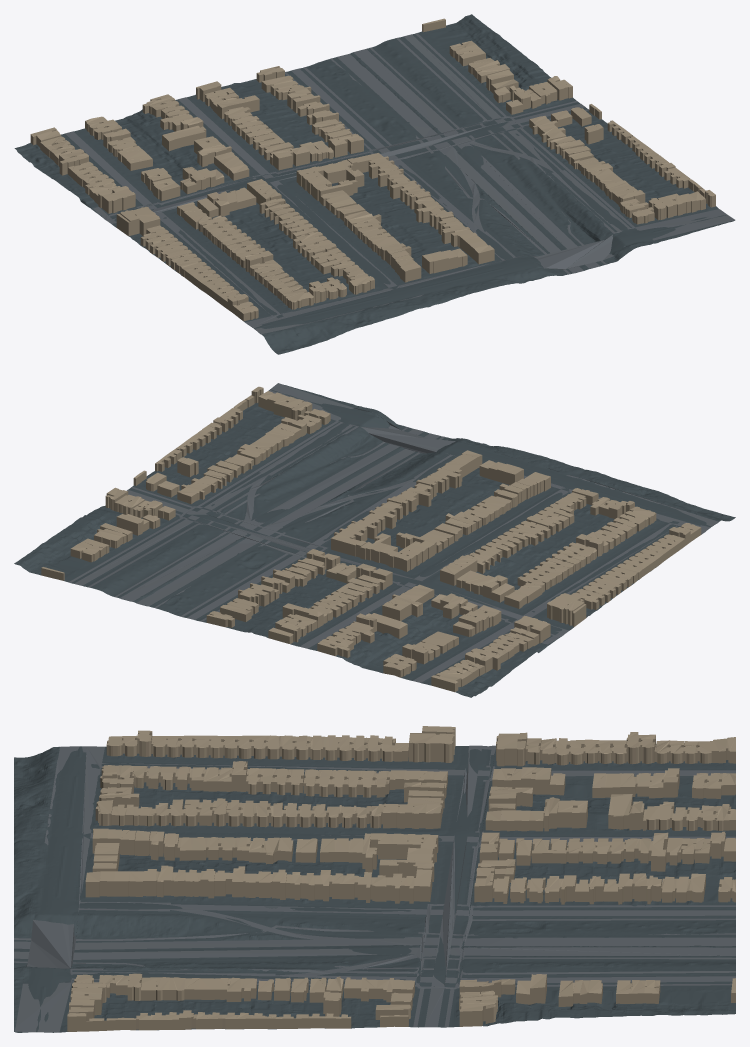
The model's file is epsg26910-1417-10884.lod0.glb.
3 views of the same model, one above another, from view 1: azimuth 30°, elevation 25°; view 2: azimuth 150°, elevation 25°; view 3: azimuth 270°, elevation 25° (orthographic). The views are drawn at different scales.
Parts seen in each view (by area): view 1: epsg26910-1417-10884-lod0; view 2: epsg26910-1417-10884-lod0; view 3: epsg26910-1417-10884-lod0.
Part boxes in pixels (x1,y1,x2,y2): epsg26910-1417-10884-lod0: [14, 14, 735, 354]; epsg26910-1417-10884-lod0: [14, 383, 735, 697]; epsg26910-1417-10884-lod0: [14, 726, 735, 1032].
Bounding box in the file's own units: 384 × 31.55 × 384.
